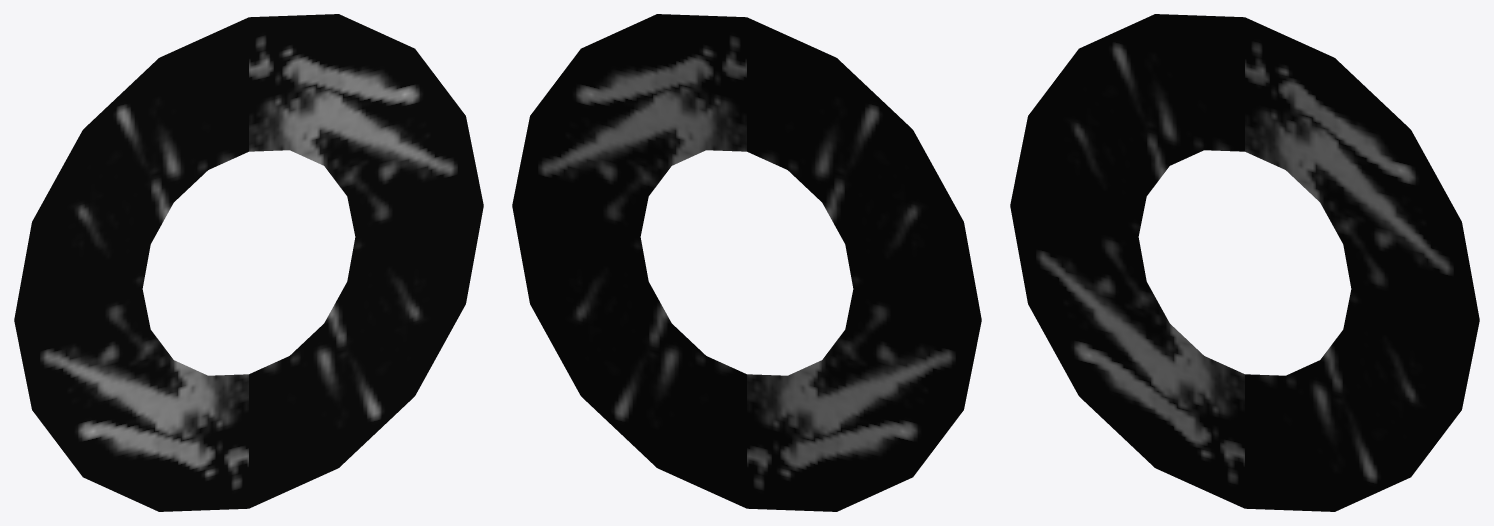
Rendered from CircalArrow_01.FBX.
3 views of the same model, side by side, from view 1: azimuth 30°, elevation 25°; view 2: azimuth 150°, elevation 25°; view 3: azimuth 330°, elevation 25° (orthographic).
Visible parts, largest first — view 1: Cylinder005; view 2: Cylinder005; view 3: Cylinder005.
Boxes of the visible parts, x1,y1,x2,y2 form: Cylinder005: [14, 14, 483, 511]; Cylinder005: [512, 14, 981, 511]; Cylinder005: [1010, 14, 1479, 511].
Bounding box in the file's own units: 61.07 × 61.07 × 7.15e-06.
